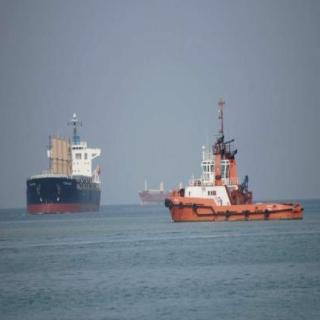Tug Boat: (164, 95, 303, 224)
